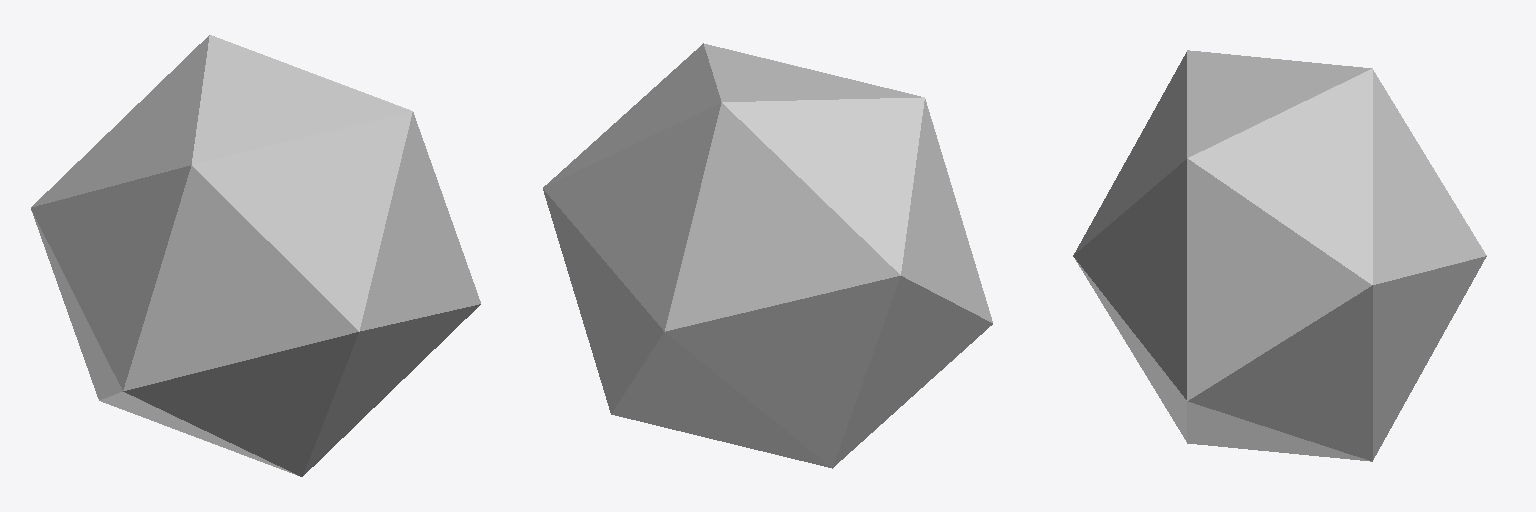
The model's file is star2.obj.
3 views of the same model, side by side, from view 1: azimuth 30°, elevation 25°; view 2: azimuth 150°, elevation 25°; view 3: azimuth 270°, elevation 25° (orthographic).
Visible parts, largest first — view 1: obj_0; view 2: obj_0; view 3: obj_0.
Part boxes in pixels (left/top/right/bottom): obj_0: left=31, top=35, right=480, bottom=476; obj_0: left=543, top=43, right=992, bottom=468; obj_0: left=1073, top=50, right=1486, bottom=461.
Size of the model in its own units: 5 by 5 by 5.